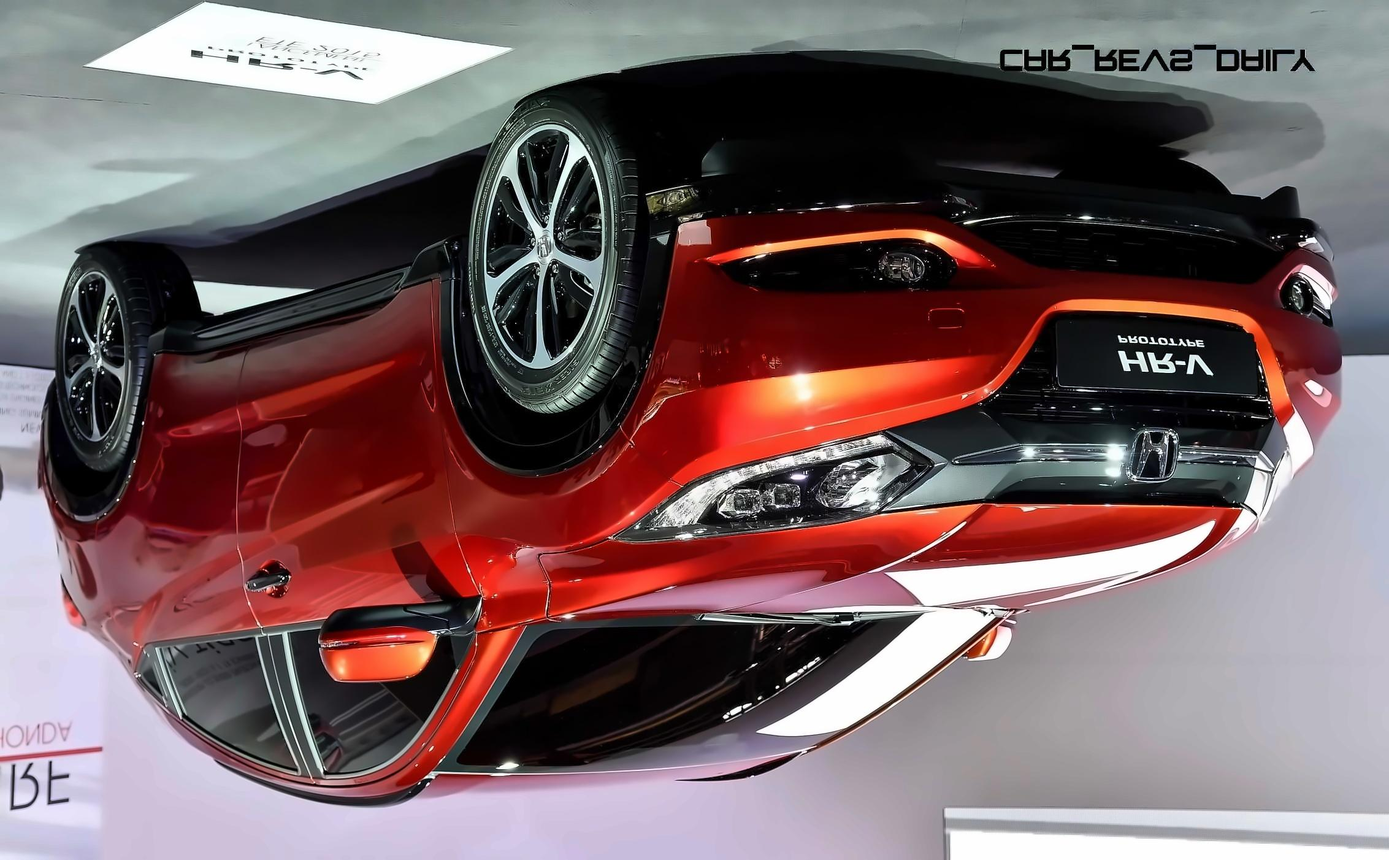Car hood: (538, 497, 1259, 625)
Fender - -F-L-: (436, 266, 679, 642)
Fender - -R-L-: (51, 444, 138, 645)
Front bumper: (624, 174, 1365, 473)
Headlight - -L-: (603, 424, 943, 547)
Passenger-s door - -F-L-: (239, 276, 458, 799)
Passenger-s door - -R-L-: (129, 329, 285, 788)
Rear light - -L-: (39, 558, 90, 649)
Side bumper - -L-: (133, 233, 473, 368)
Side mirror - -L-: (313, 591, 469, 692)
Side mirror - -R-: (953, 601, 1023, 673)
